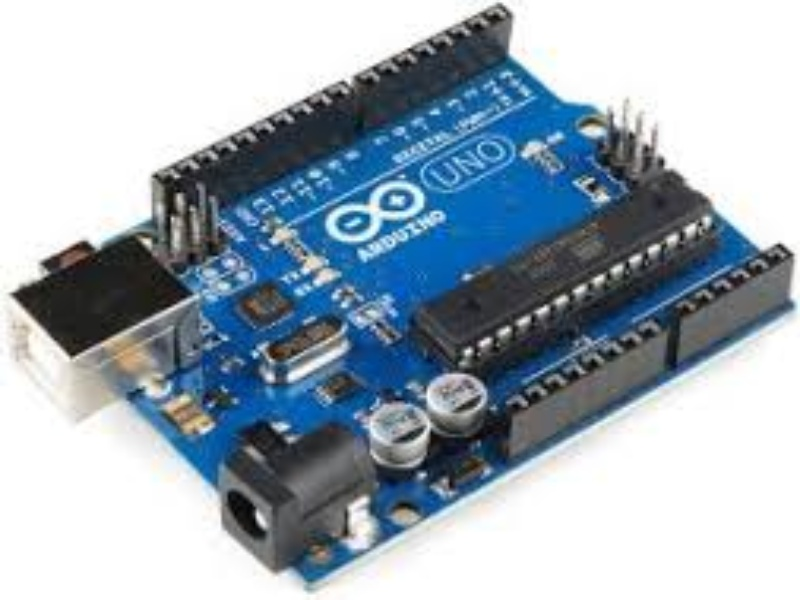uno: (20, 6, 755, 520)
